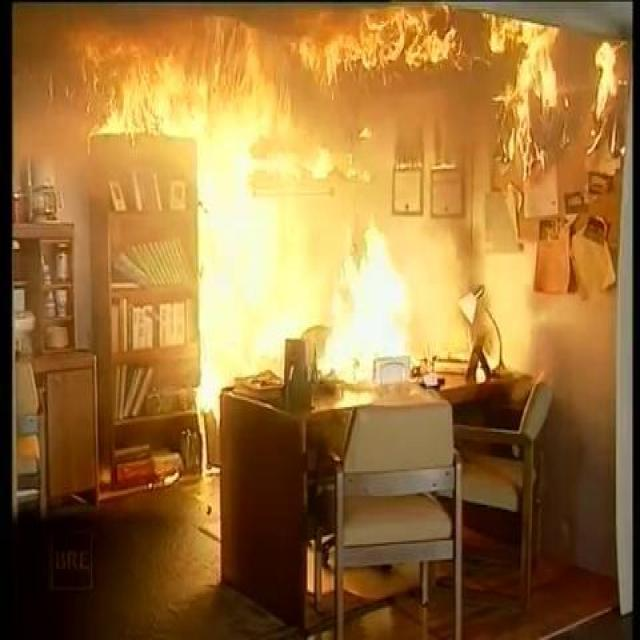Fire: (212, 172, 414, 390), (292, 18, 628, 128), (117, 46, 270, 125)
